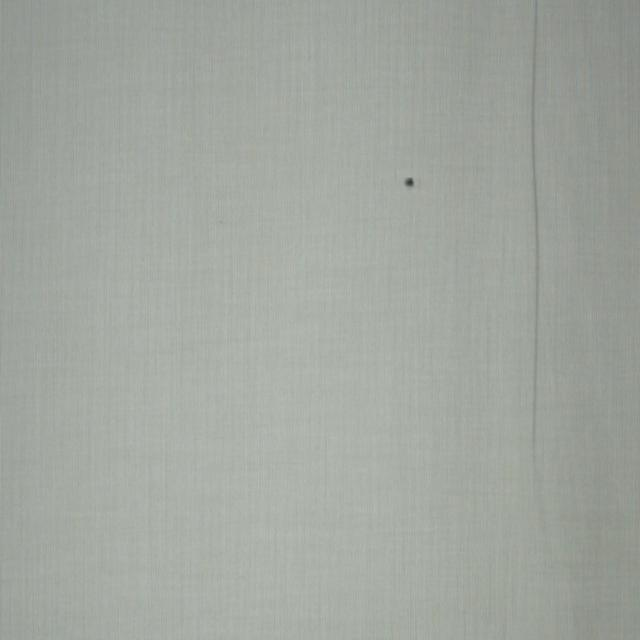dirty: (405, 176, 414, 188)
